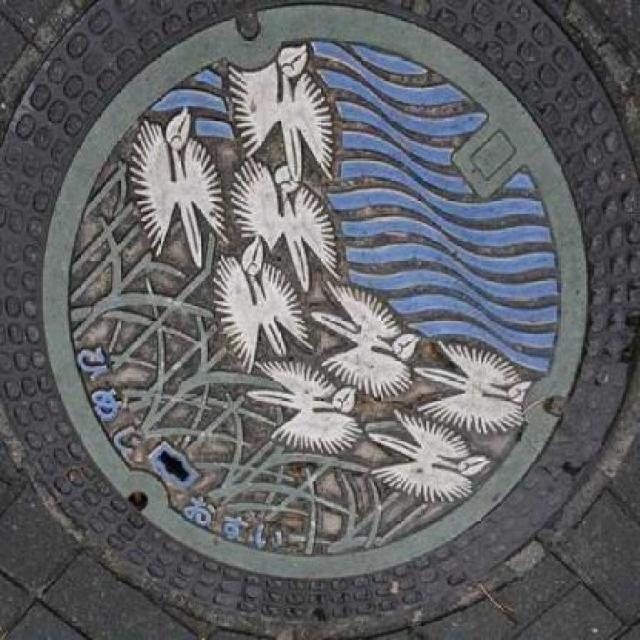Manhole: (62, 2, 596, 610)
